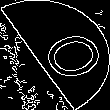O_SW: (14, 23, 96, 87)
